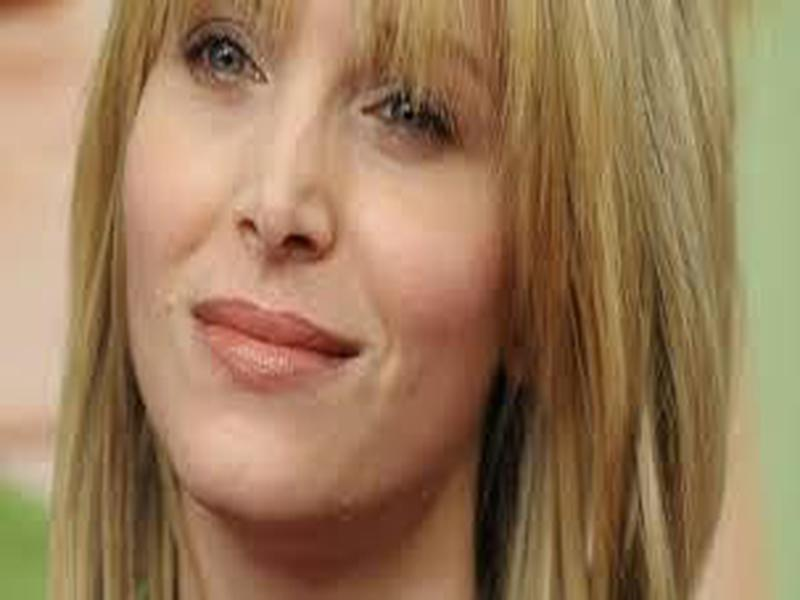without_mask: (115, 1, 530, 523)
